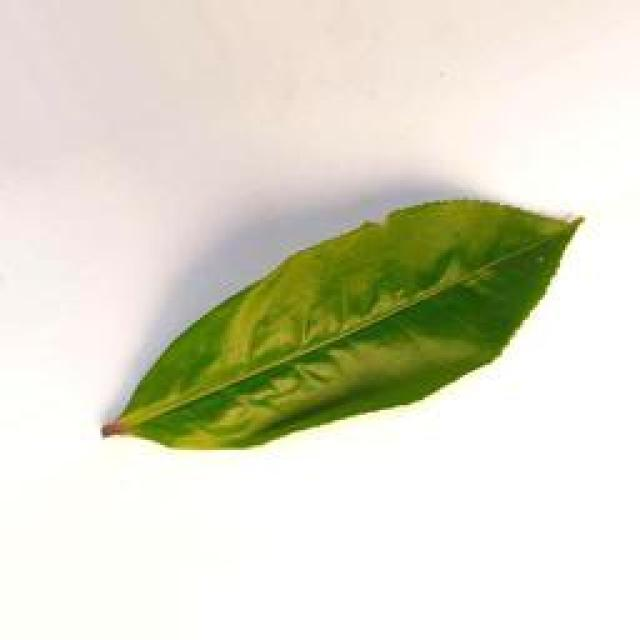Healthy: (83, 185, 619, 468)
